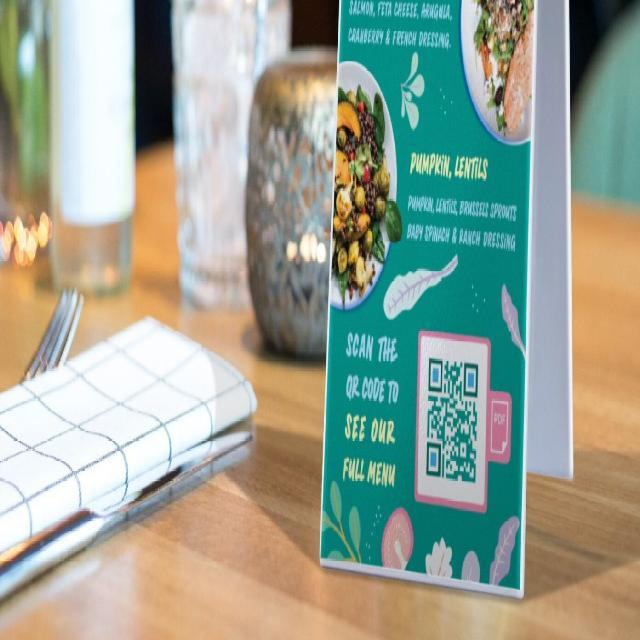qr_code: (425, 358, 478, 484)
